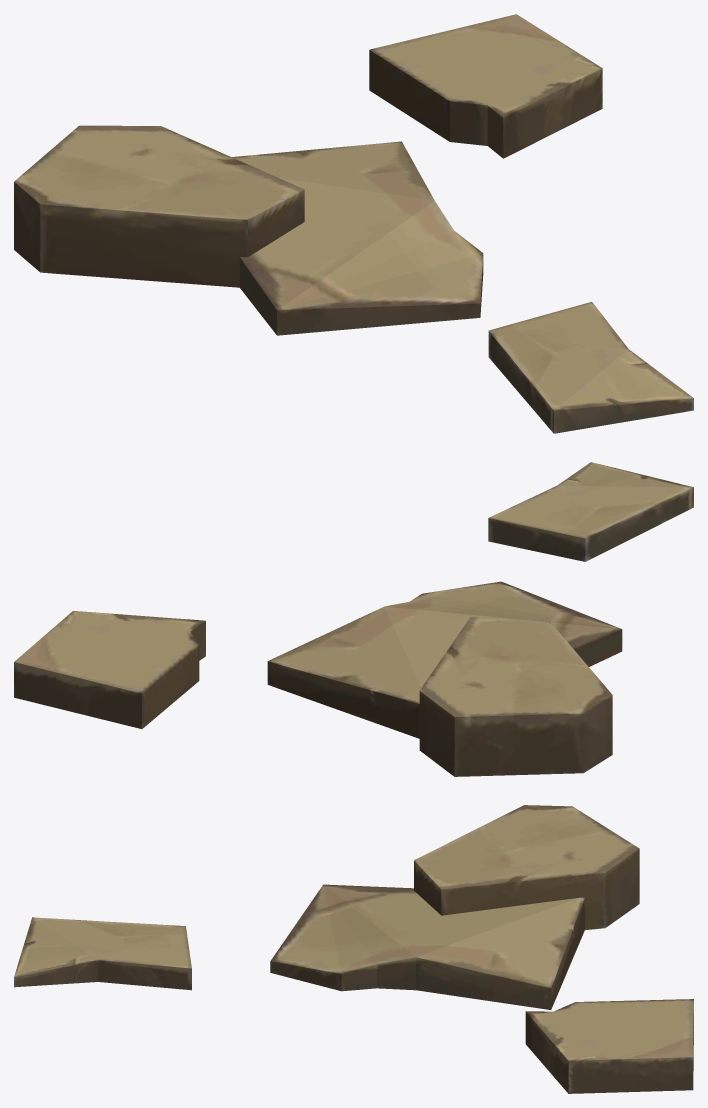
The model's file is caodi_xiaoshitou_01.fbx.
3 renders of one model, top to bottom at view 1: azimuth 30°, elevation 25°; view 2: azimuth 150°, elevation 25°; view 3: azimuth 270°, elevation 25°, orthographic. The views are drawn at different scales.
Parts seen in each view (by area): view 1: caodi_xiaoshitou_01; view 2: caodi_xiaoshitou_01; view 3: caodi_xiaoshitou_01.
Boxes of the visible parts, x1=… form: caodi_xiaoshitou_01: x1=14, y1=14, x2=693, y2=433; caodi_xiaoshitou_01: x1=14, y1=462, x2=693, y2=776; caodi_xiaoshitou_01: x1=14, y1=805, x2=693, y2=1093.
Bounding box in the file's own units: 3.16 × 0.3497 × 3.89.
